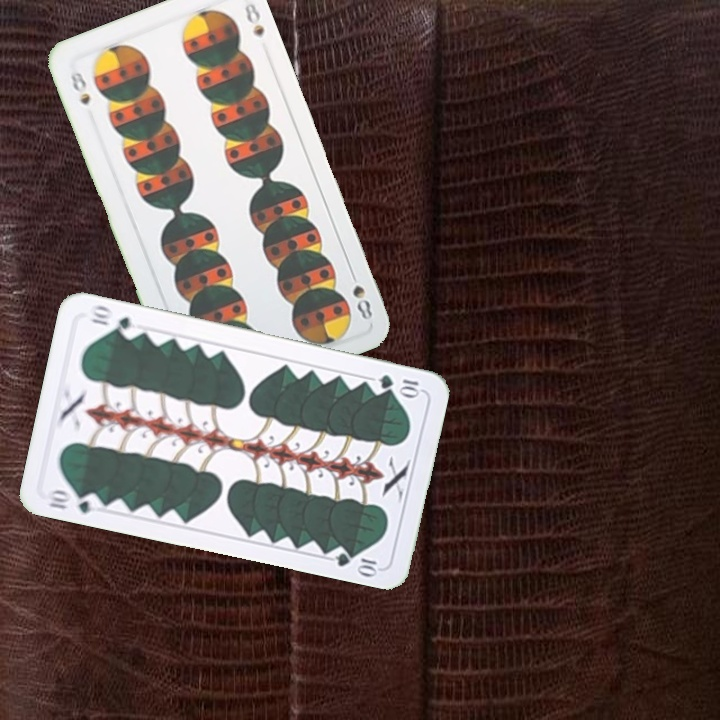G10: (43, 485, 103, 516), (374, 370, 424, 398)
S8: (345, 265, 375, 323), (66, 66, 93, 108)
